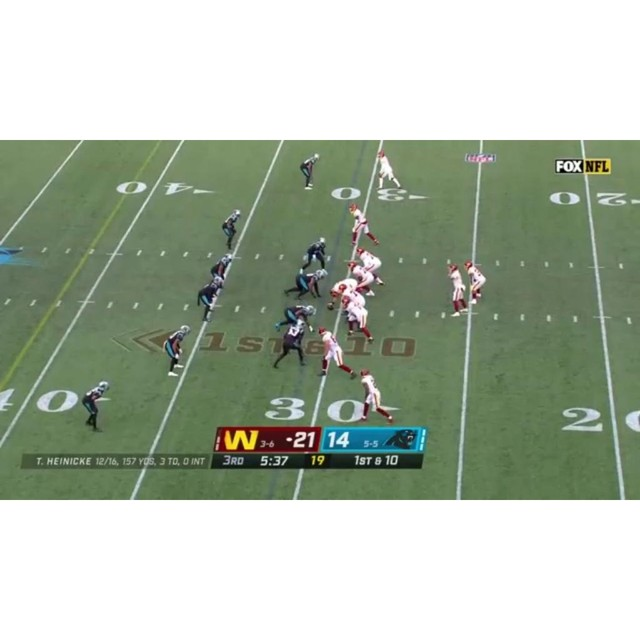american-football-player: (318, 325, 354, 380), (359, 368, 394, 423), (272, 318, 309, 369), (342, 297, 374, 344), (81, 381, 109, 432), (283, 269, 327, 301), (164, 325, 191, 377), (349, 203, 380, 247), (198, 276, 225, 323), (274, 304, 316, 332), (446, 263, 468, 316), (328, 277, 360, 311), (463, 260, 487, 305), (355, 248, 384, 285), (348, 262, 376, 298), (376, 150, 401, 190), (299, 238, 327, 273), (222, 210, 241, 251), (300, 153, 319, 190), (209, 254, 233, 281)
